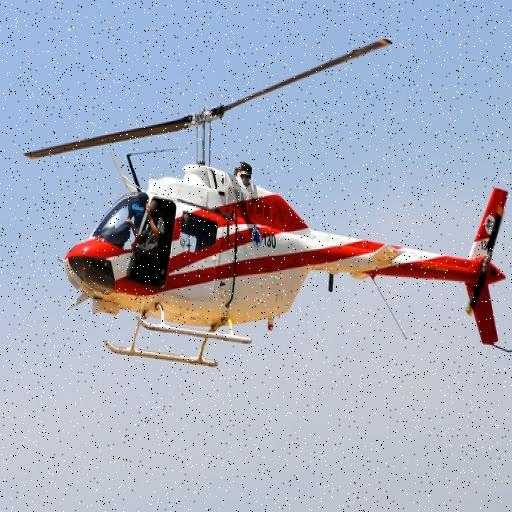helicopter: (17, 27, 512, 393)
